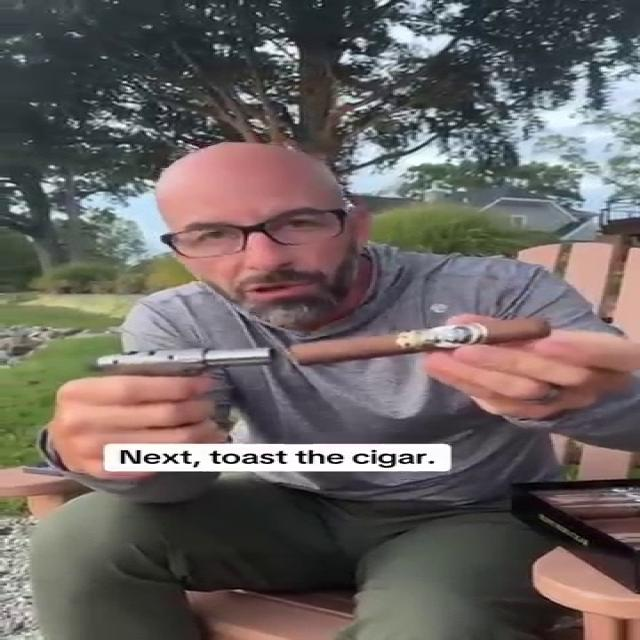Cigarette: (295, 316, 553, 366)
Hand: (425, 312, 639, 423)
Mouth: (236, 278, 330, 296)
